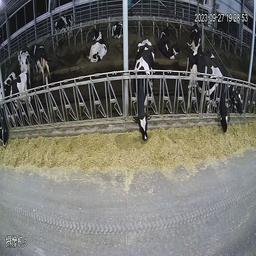cow: (186, 48, 228, 134), (133, 36, 155, 144), (2, 69, 31, 146), (158, 25, 180, 60), (229, 73, 246, 115), (89, 28, 108, 64), (33, 42, 49, 84), (14, 42, 31, 75), (53, 15, 76, 37), (189, 20, 202, 51), (111, 23, 123, 40)
